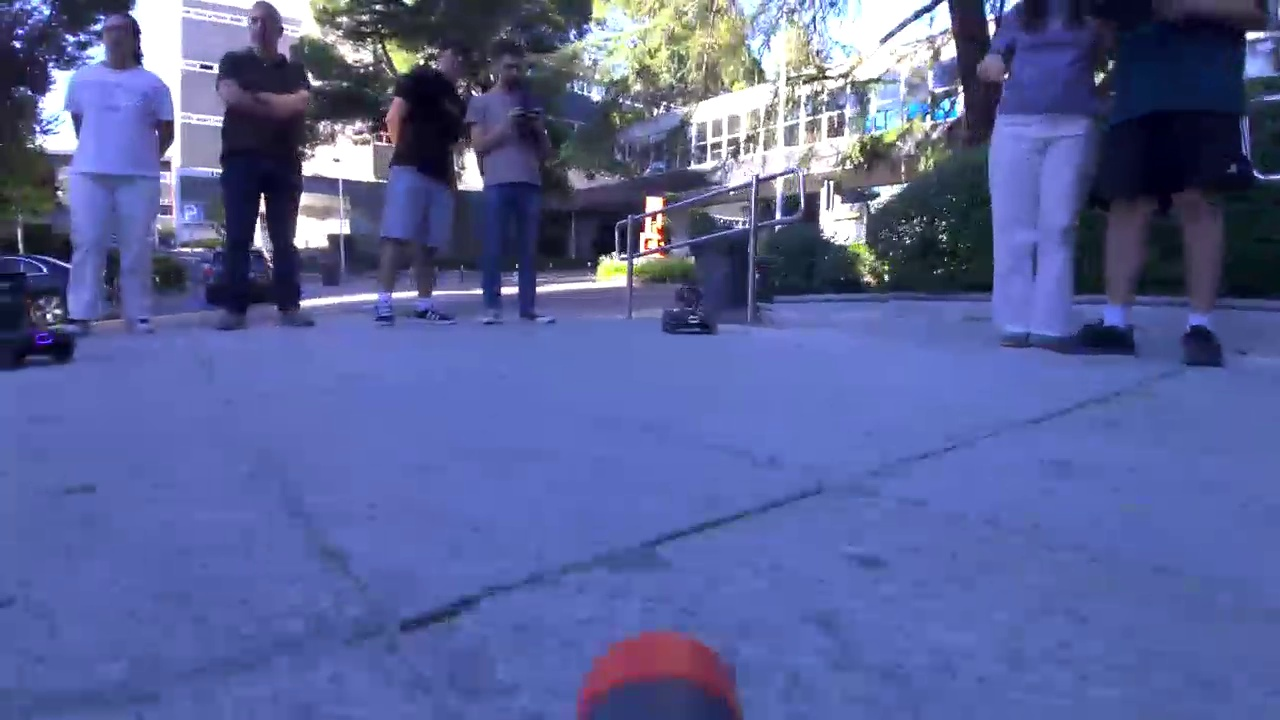robot: (18, 298, 76, 362), (661, 285, 718, 336)
